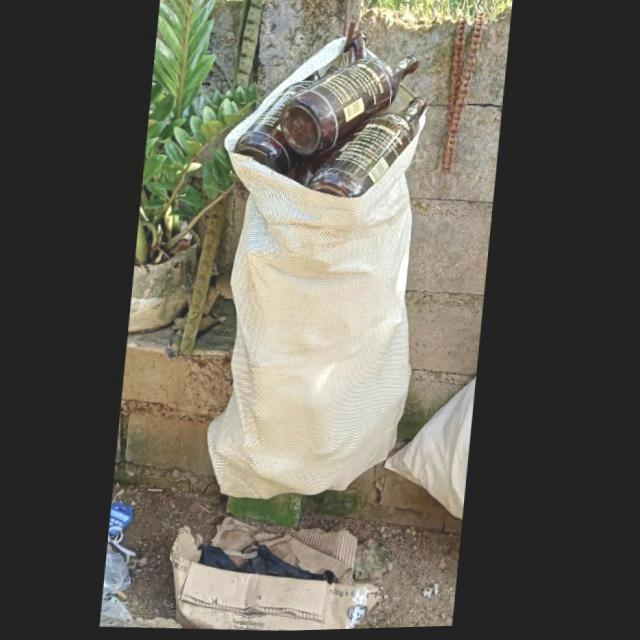glass_bottle: (280, 58, 419, 159), (307, 100, 429, 200), (234, 68, 340, 177)
